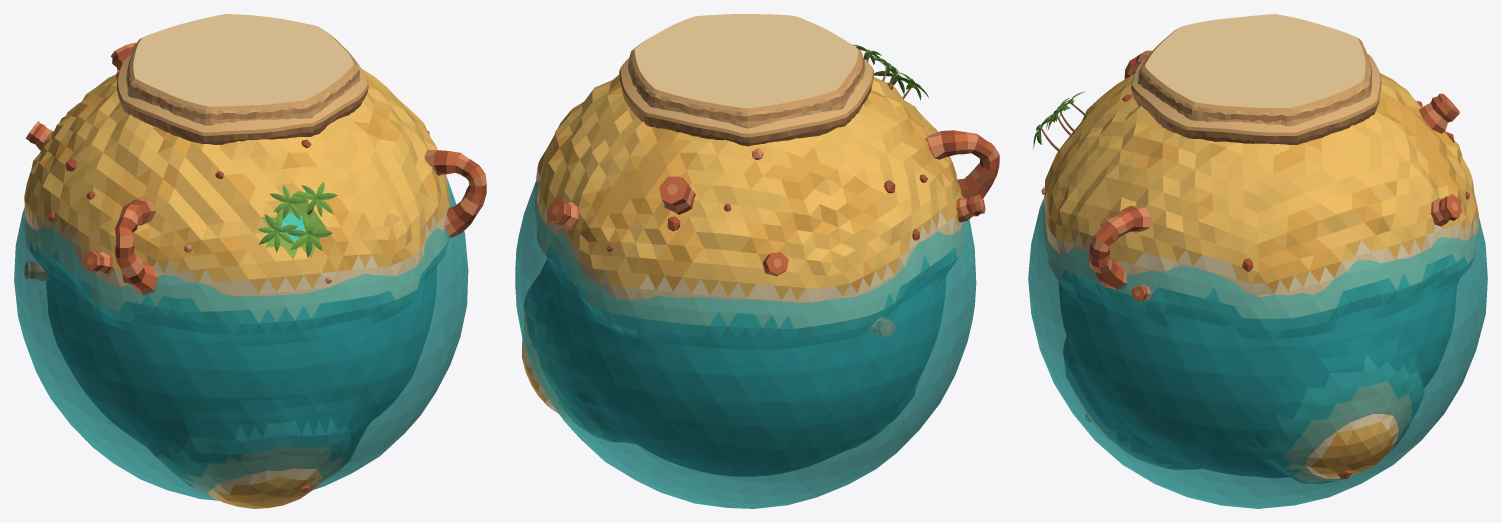
File: 04_Dunewake.glb
The picture shows the model from 3 angles, left to right: view 1: azimuth 30°, elevation 25°; view 2: azimuth 150°, elevation 25°; view 3: azimuth 270°, elevation 25°; orthographic projection.
Parts seen in each view (by area): view 1: Dunewake_Body, Dunewake_Ocean, Dunewake_BuildArea, Dunewake_Terraces, Dunewake_Deco_RockArches, Dunewake_Deco_Palms, Dunewake_Deco_Hoodoos, Dunewake_Deco_Rocks; view 2: Dunewake_Body, Dunewake_Ocean, Dunewake_BuildArea, Dunewake_Terraces, Dunewake_Deco_Hoodoos, Dunewake_Deco_RockArches, Dunewake_Deco_Palms, Dunewake_Deco_Rocks; view 3: Dunewake_Body, Dunewake_Ocean, Dunewake_BuildArea, Dunewake_Terraces, Dunewake_Deco_RockArches, Dunewake_Deco_Hoodoos, Dunewake_Deco_Palms.
Part boxes in pixels (x1=…): Dunewake_Body: x1=24, y1=68, x2=450, y2=508; Dunewake_Ocean: x1=14, y1=178, x2=468, y2=500; Dunewake_BuildArea: x1=126, y1=14, x2=360, y2=125; Dunewake_Terraces: x1=116, y1=54, x2=368, y2=144; Dunewake_Deco_RockArches: x1=115, y1=150, x2=486, y2=295; Dunewake_Deco_Palms: x1=257, y1=182, x2=337, y2=257; Dunewake_Deco_Hoodoos: x1=24, y1=42, x2=135, y2=280; Dunewake_Deco_Rocks: x1=48, y1=70, x2=429, y2=492; Dunewake_Body: x1=522, y1=74, x2=963, y2=476; Dunewake_Ocean: x1=515, y1=181, x2=976, y2=508; Dunewake_BuildArea: x1=628, y1=14, x2=865, y2=128; Dunewake_Terraces: x1=619, y1=57, x2=873, y2=146; Dunewake_Deco_Hoodoos: x1=547, y1=176, x2=985, y2=336; Dunewake_Deco_RockArches: x1=925, y1=130, x2=999, y2=198; Dunewake_Deco_Palms: x1=852, y1=44, x2=928, y2=99; Dunewake_Deco_Rocks: x1=607, y1=82, x2=927, y2=251; Dunewake_Body: x1=1043, y1=73, x2=1478, y2=483; Dunewake_Ocean: x1=1028, y1=198, x2=1487, y2=508; Dunewake_BuildArea: x1=1138, y1=14, x2=1372, y2=126; Dunewake_Terraces: x1=1131, y1=53, x2=1381, y2=144; Dunewake_Deco_RockArches: x1=1089, y1=50, x2=1152, y2=290; Dunewake_Deco_Hoodoos: x1=1131, y1=93, x2=1462, y2=301; Dunewake_Deco_Palms: x1=1033, y1=91, x2=1087, y2=151.
Size of the model in its own units: 2 by 2.04 by 2.
